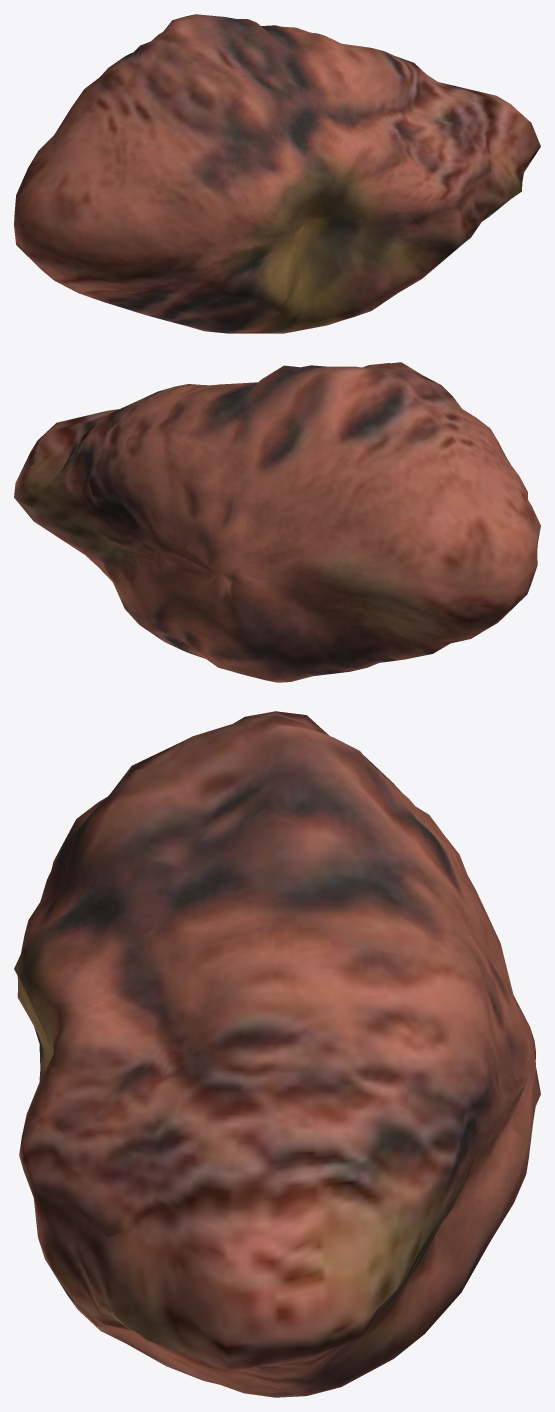
Rendered from amalthea - thumbnail.dae.
3 views of the same model, one above another, from view 1: azimuth 30°, elevation 25°; view 2: azimuth 150°, elevation 25°; view 3: azimuth 270°, elevation 25° (orthographic). The views are drawn at different scales.
Visible parts, largest first — view 1: obj_0; view 2: obj_0; view 3: obj_0.
Boxes of the visible parts, x1,y1,x2,y2 form: obj_0: (14, 14, 540, 333); obj_0: (14, 362, 540, 682); obj_0: (14, 711, 540, 1397).
Bounding box in the file's own units: 2.67 × 1.39 × 1.57.
1 material, 1 textured.
